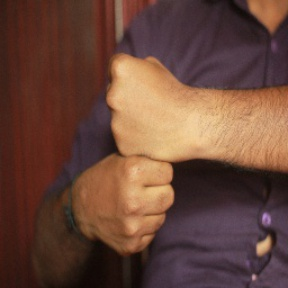G: (73, 49, 195, 254)
